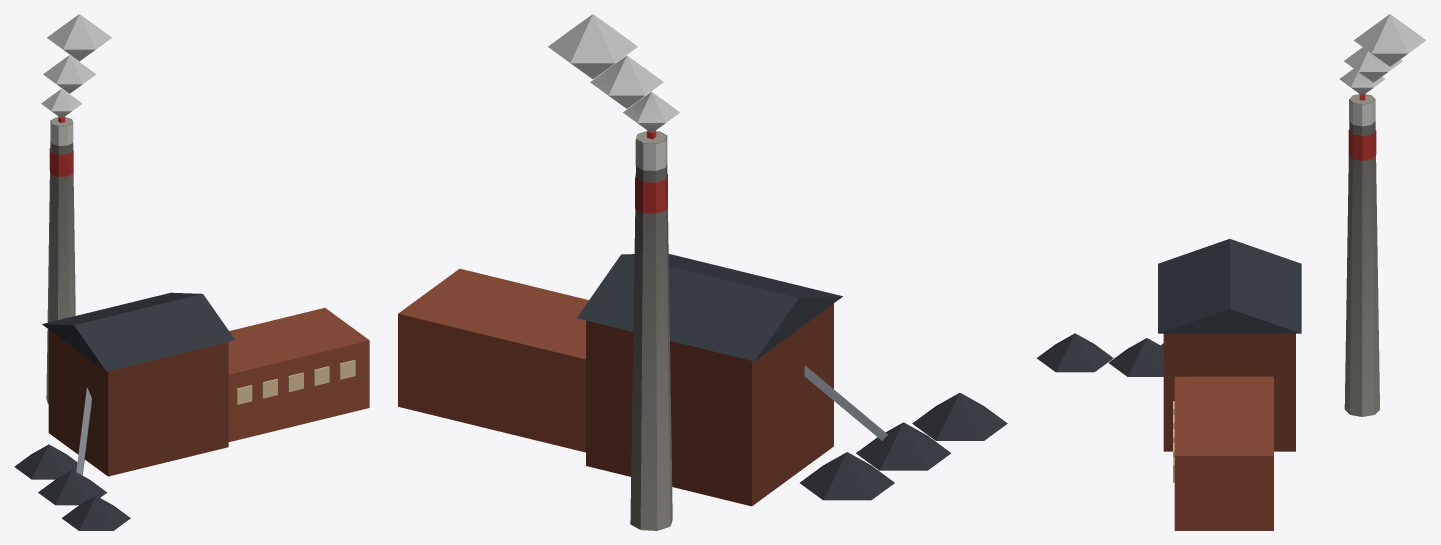
File: plant_steam_l1.fbx
3 views of the same model, side by side, from view 1: azimuth 30°, elevation 25°; view 2: azimuth 150°, elevation 25°; view 3: azimuth 270°, elevation 25° (orthographic). The views are drawn at different scales.
Parts seen in each view (by area): view 1: plant_steam_l1; view 2: plant_steam_l1; view 3: plant_steam_l1.
Part boxes in pixels (x1,y1,x2,y2): plant_steam_l1: (14, 14, 369, 530); plant_steam_l1: (398, 14, 1007, 530); plant_steam_l1: (1037, 14, 1425, 530).
Size of the model in its own units: 80.06 by 82.28 by 70.6.
